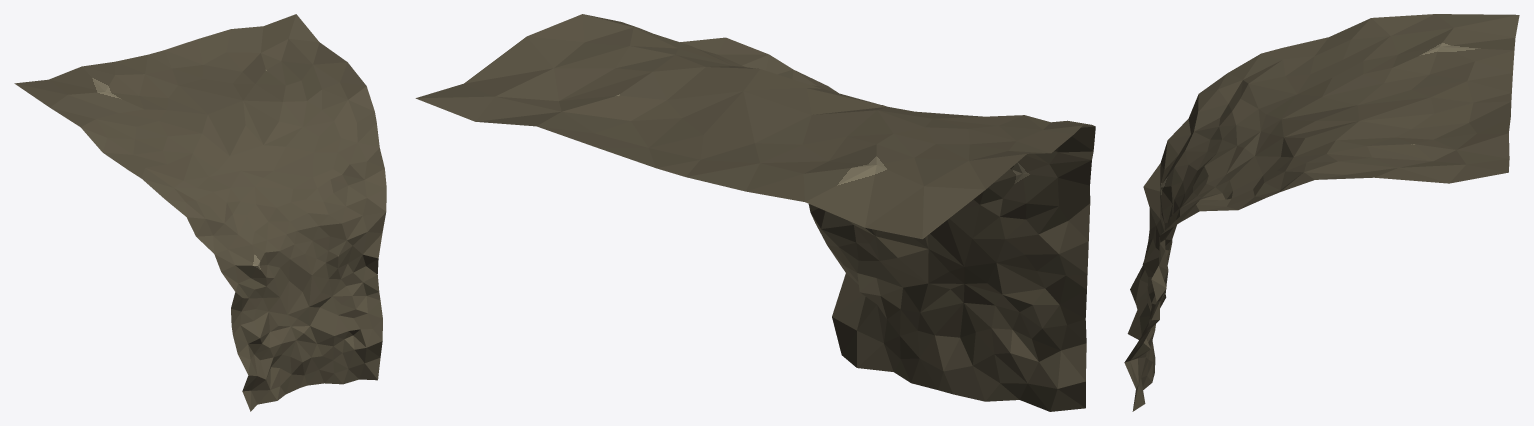
File: WaterfallAnim.FBX
The picture shows the model from 3 angles, left to right: view 1: azimuth 30°, elevation 25°; view 2: azimuth 150°, elevation 25°; view 3: azimuth 270°, elevation 25°; orthographic projection. The views are drawn at different scales.
Parts seen in each view (by area): view 1: Waterfall_004; view 2: Waterfall_004; view 3: Waterfall_004.
Part boxes in pixels (x1,y1,x2,y2): Waterfall_004: [14, 14, 386, 411]; Waterfall_004: [415, 14, 1095, 411]; Waterfall_004: [1124, 14, 1519, 411].
Bounding box in the file's own units: 100 × 80.88 × 102.
